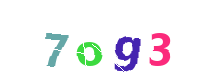3: (121, 0, 201, 80)
7: (33, 0, 113, 80)
G: (88, 0, 168, 80)
O: (69, 0, 149, 80)
